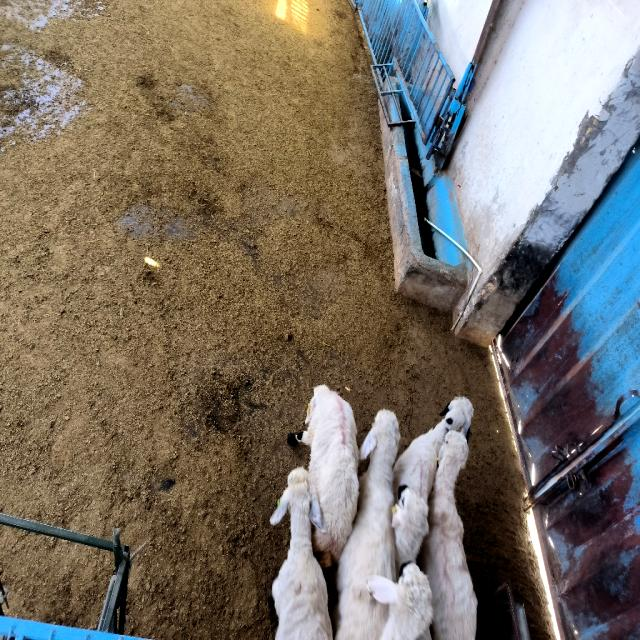sheep: (336, 410, 400, 638), (391, 397, 474, 571), (420, 430, 478, 640), (300, 385, 359, 568), (270, 467, 332, 640), (366, 563, 434, 640)
